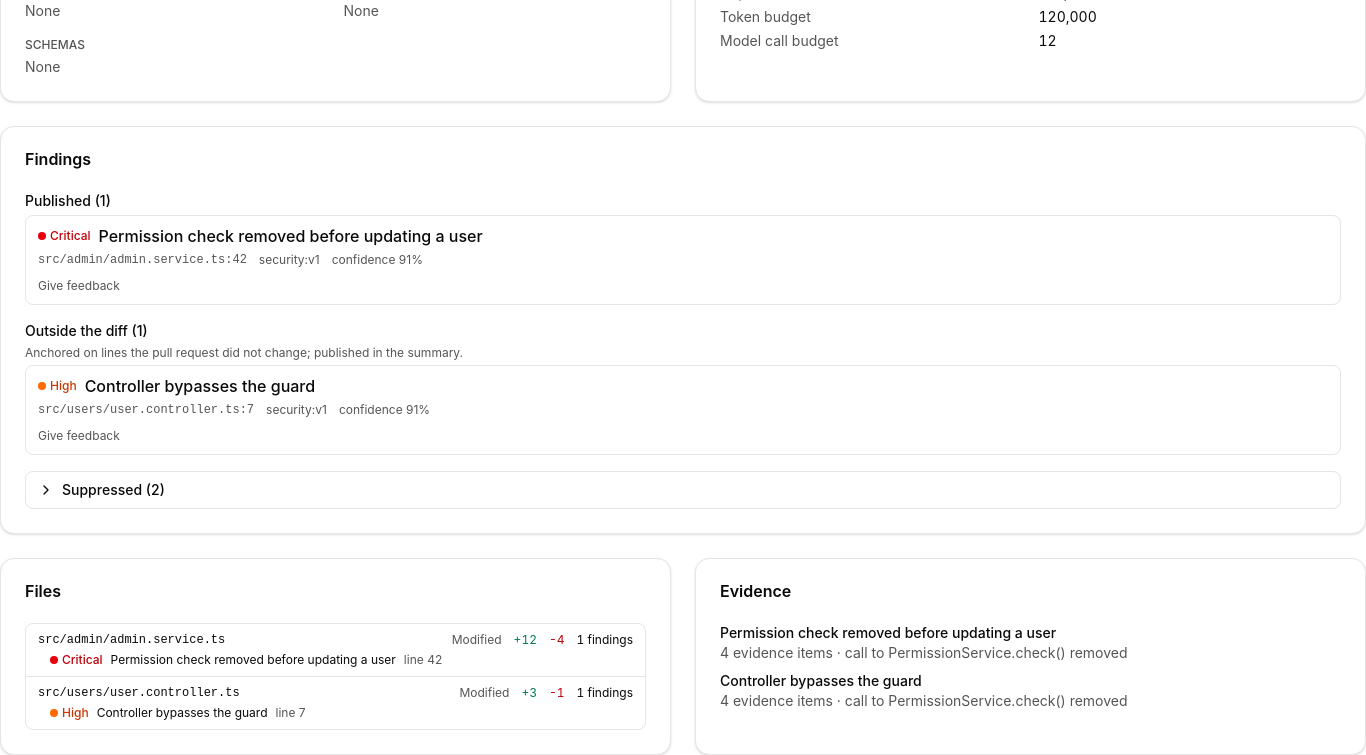
Scenario: review detail › suppressed_grouped_by_reason
The width and height of the screenshot is (1366, 755).
(page scrolled)
Check: the text "Possible N+1 query" is not shown
Click the button "Suppressed (2)" at (106, 490), box [26,472,1340,508]
(page scrolled)
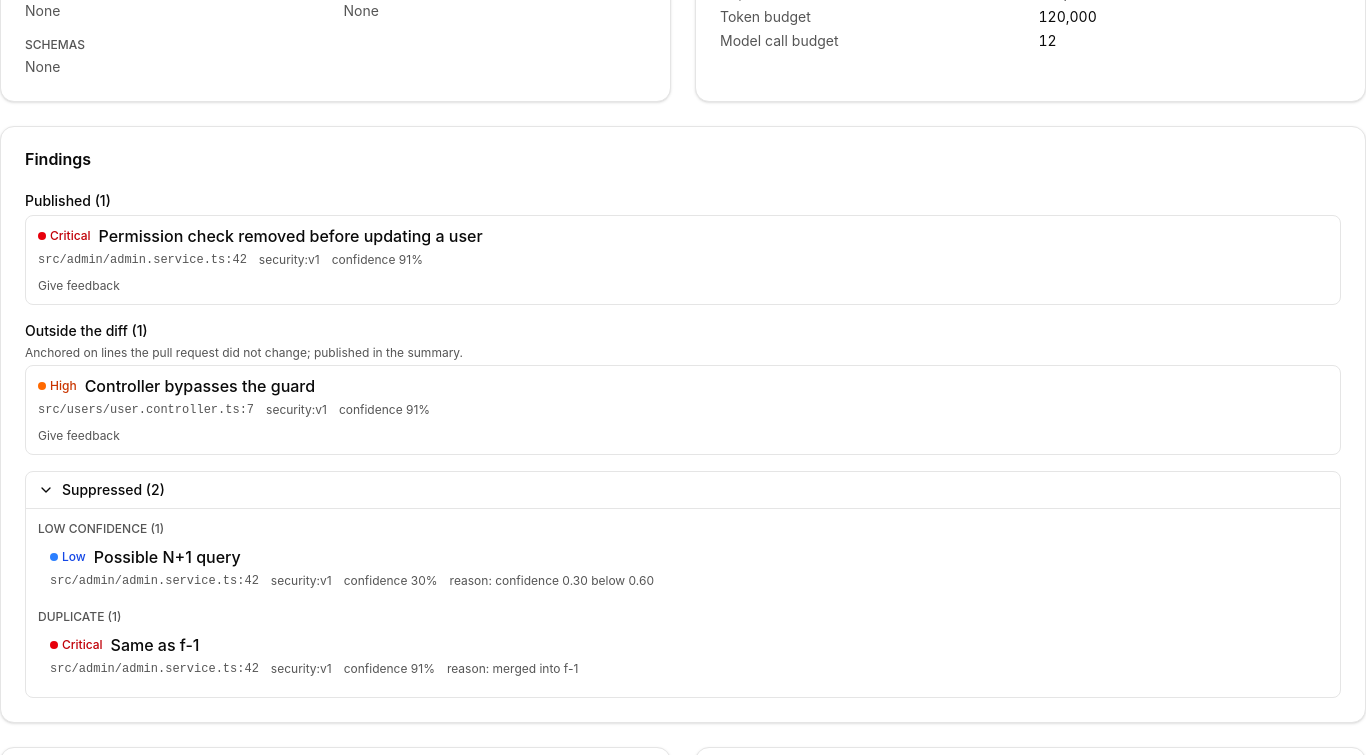
Check: the heading "Low confidence (1)" is shown, box [38,521,164,536]
Check: the link "Possible N+1 query" is shown, box [94,545,241,569]
Check: the link "Same as f-1" is shown, box [110,633,200,657]
